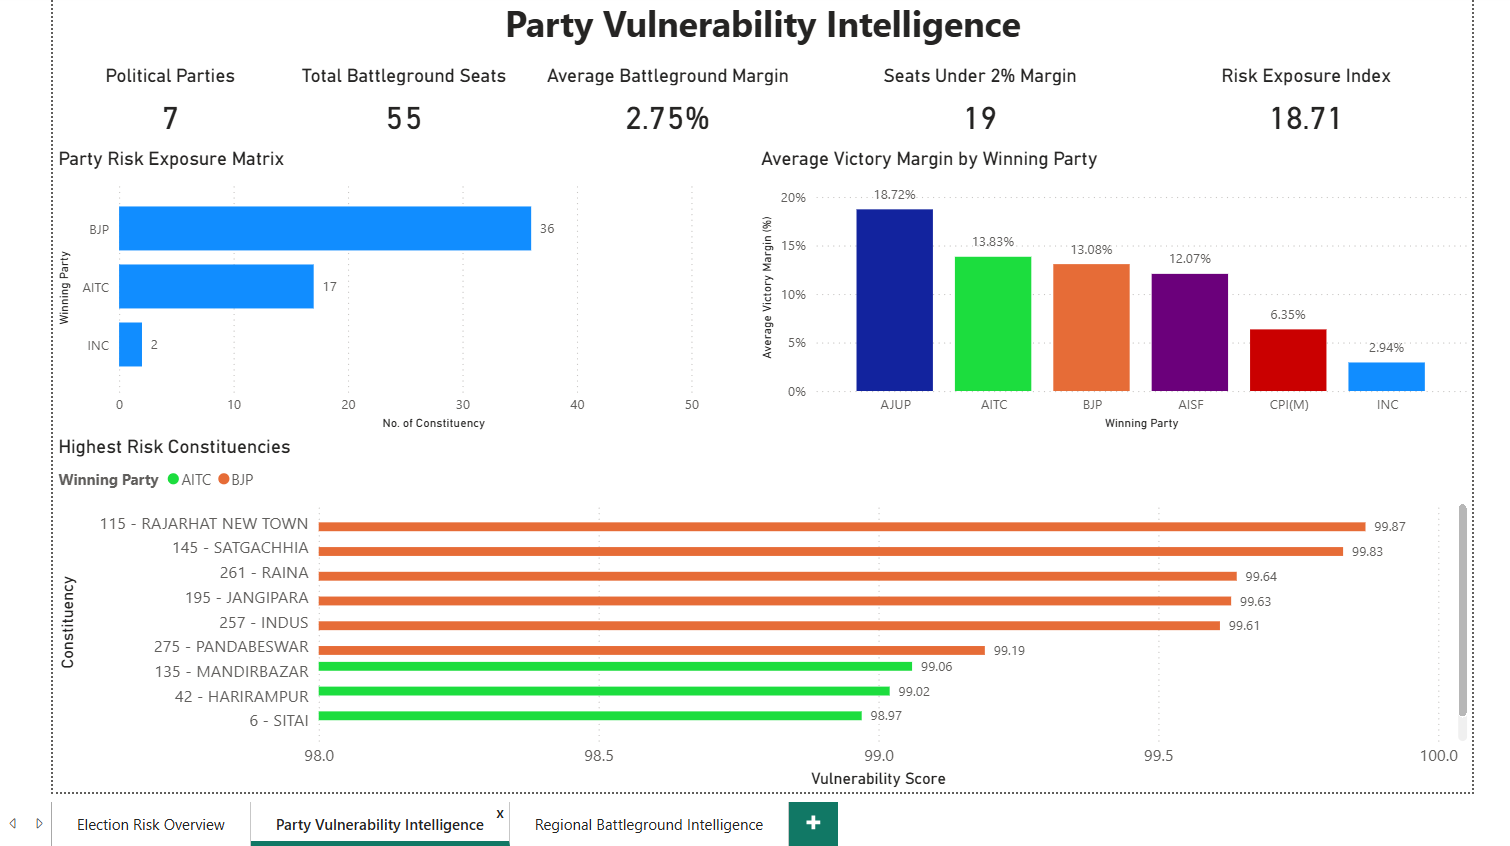

The page's visual inventory and layout, read from the dashboard file:
{"tool":"powerbi","page":{"name":"Party Vulnerability Intelligence","canvas":[1280,720],"ordinal":1},"visuals":[{"type":"textbox","box":[0,0,1280,63.4],"z":0},{"type":"card","title":"Political Parties","fields":{"Values":["Count(Election_Risk_Model.Winning Party)"]},"box":[0,63.4,211.5,74.6],"z":1000},{"type":"card","title":"Total Battleground Seats","fields":{"Values":["Count(Election_Risk_Model.Constituency)"]},"box":[211.3,63.1,211.3,74.1],"z":2000},{"type":"card","title":"Average Battleground Margin ","fields":{"Values":["Avg(Election_Risk_Model.Victory Margin %)"]},"box":[422.6,63.1,263.5,74.1],"z":3000},{"type":"clusteredBarChart","title":"Party Risk Exposure Matrix","fields":{"Category":["Election_Risk_Model.Winning Party"],"Y":["CountNonNull(Election_Risk_Model.Constituency)"],"Series":["Election_Risk_Model.Seat Category"]},"box":[0,138.6,639.5,259.3],"z":4000},{"type":"clusteredColumnChart","title":"Average Victory Margin by Winning Party","fields":{"Y":["Avg(Election_Risk_Model.Victory Margin %)"],"Category":["Election_Risk_Model.Winning Party"]},"box":[634,138.6,646.3,259.3],"z":5000},{"type":"clusteredBarChart","title":"Highest Risk Constituencies","fields":{"Category":["Election_Risk_Model.Constituency"],"Series":["Election_Risk_Model.Winning Party"],"Y":["Max(Election_Risk_Model.Political Vulnerability Score)"]},"box":[0,397.9,1280.3,322.5],"z":6000},{"type":"card","title":"Seats Under 2% Margin","fields":{"Values":["Count(Election_Risk_Model.Constituency)"]},"box":[686.1,63.1,299.1,74.1],"z":7000},{"type":"card","title":"Risk Exposure Index","fields":{"Values":["Election_Risk_Model.Risk Exposure Index"]},"box":[979,63.4,301,74.6],"z":7001}]}

Visuals, with their boxes on the page's 1280x720 design canvas (x1, y1, x2, y2). These are canvas units, not pixel positions in the 1510x846 screenshot, which may show the page scaled, cropped or inside an application window:
textbox: region(0, 0, 1280, 63)
"Political Parties" card: region(0, 63, 212, 138)
"Total Battleground Seats" card: region(211, 63, 423, 137)
"Average Battleground Margin " card: region(423, 63, 686, 137)
"Party Risk Exposure Matrix" clusteredBarChart: region(0, 139, 640, 398)
"Average Victory Margin by Winning Party" clusteredColumnChart: region(634, 139, 1280, 398)
"Highest Risk Constituencies" clusteredBarChart: region(0, 398, 1280, 720)
"Seats Under 2% Margin" card: region(686, 63, 985, 137)
"Risk Exposure Index" card: region(979, 63, 1280, 138)
